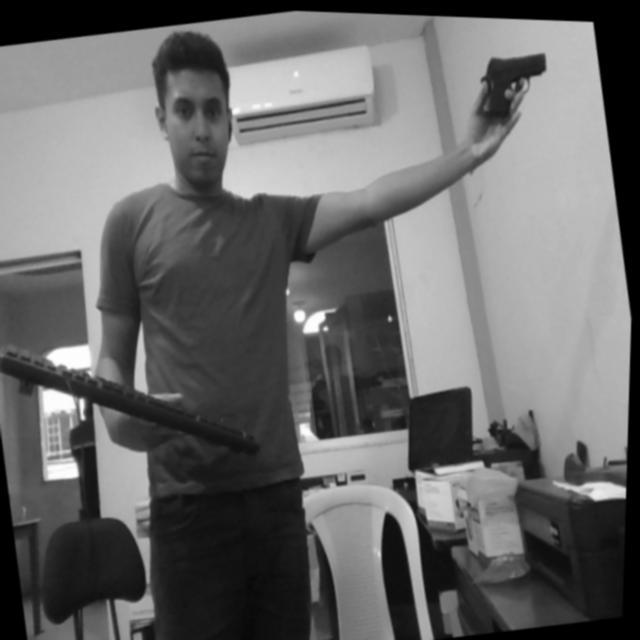weapon: (464, 39, 556, 126)
